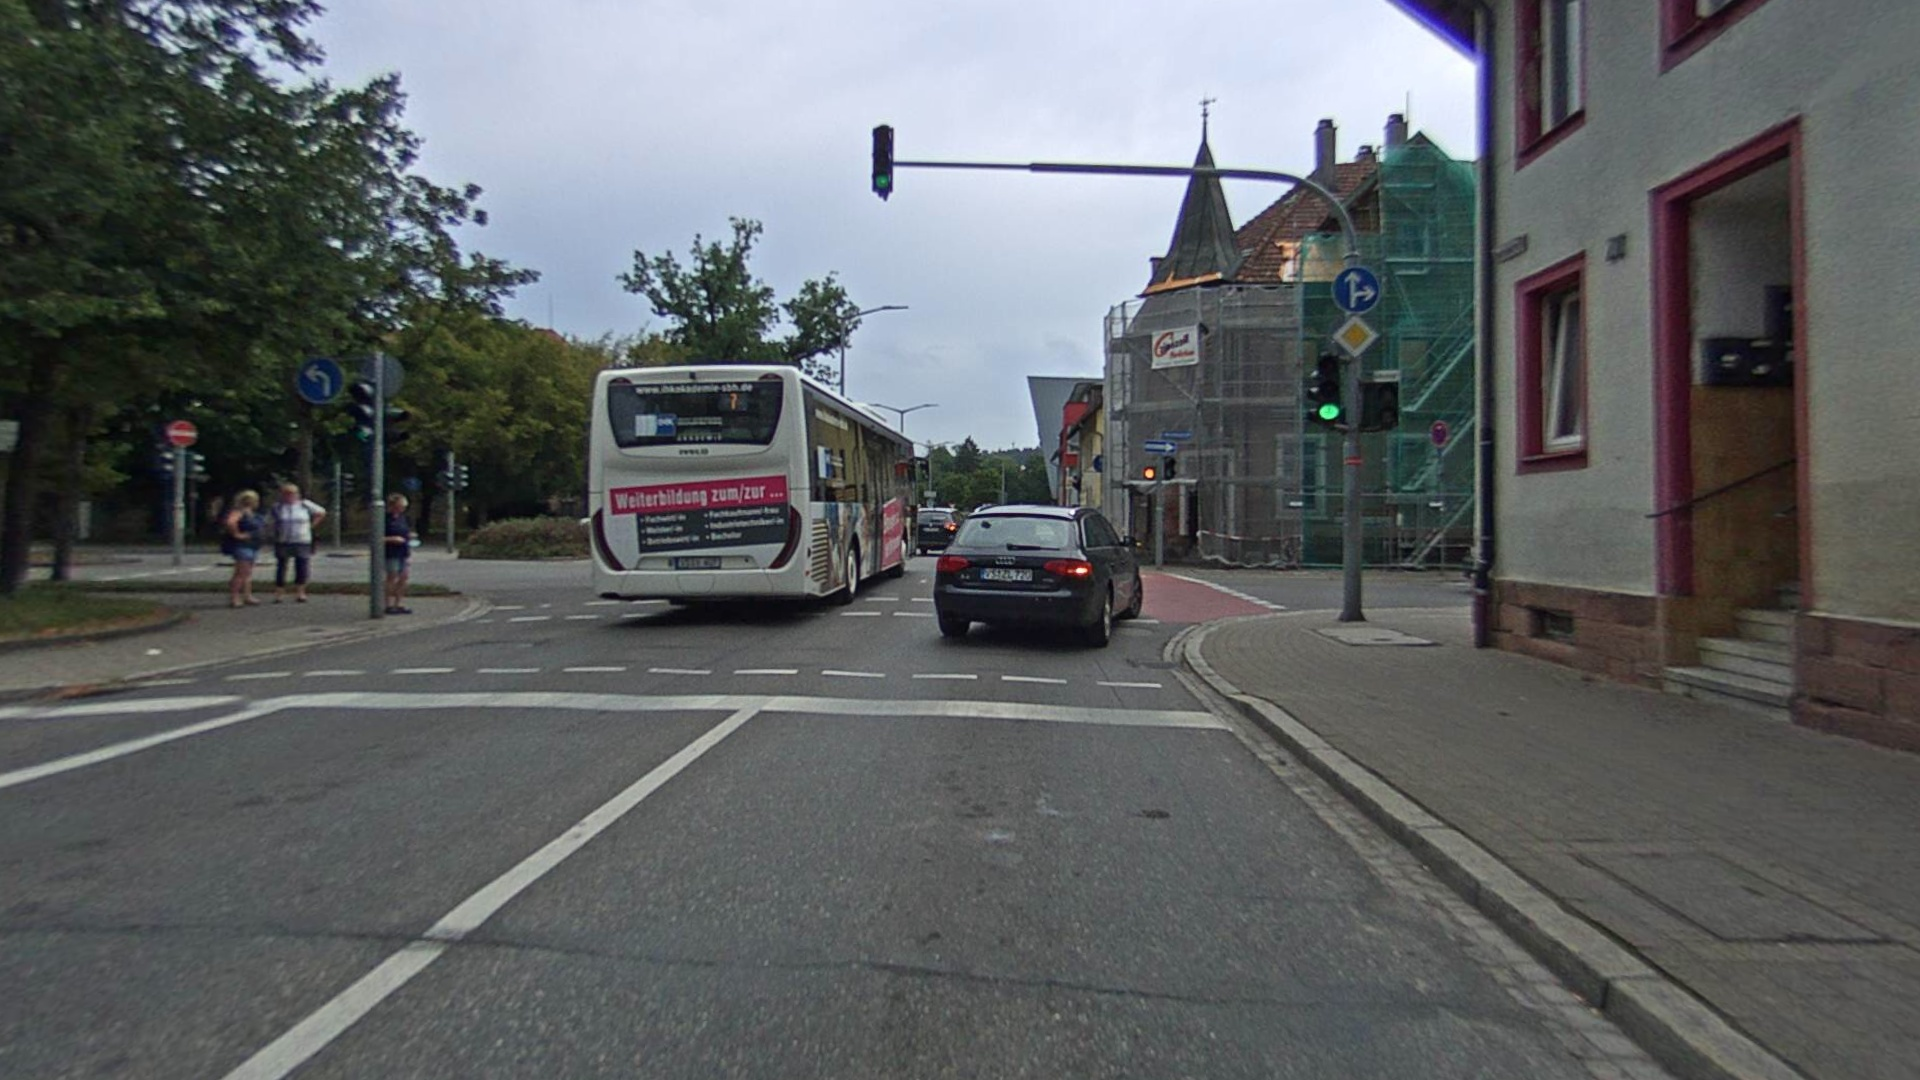bus: (582, 365, 921, 621)
car: (576, 362, 916, 619), (932, 505, 1145, 650)
person: (271, 485, 329, 603), (218, 488, 272, 611), (383, 494, 414, 616)
